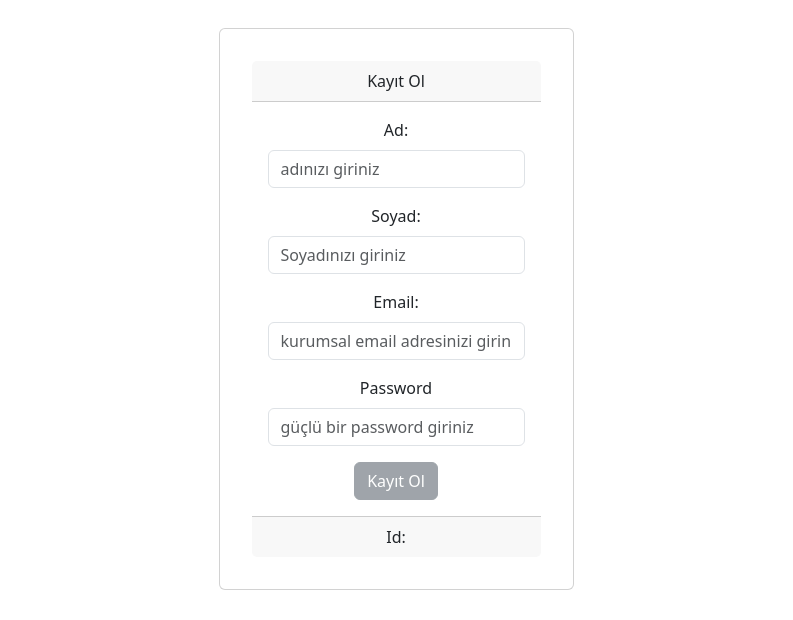
Test: Register Page › Error Mesages › password input throws error for 1234
In the password field with test id "password-input": (397, 427) [268,408,525,446], type "1234"
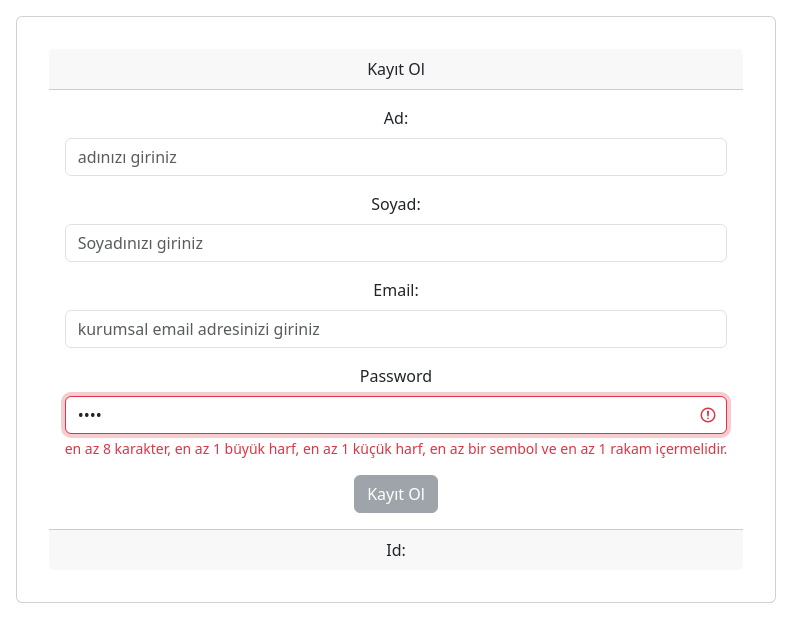
Result: the text "en az 8 karakter, en az 1 büyük harf, en az 1 küçük harf, en az bir sembol ve en az 1 rakam içermelidir." is shown at [65,439,728,458]
